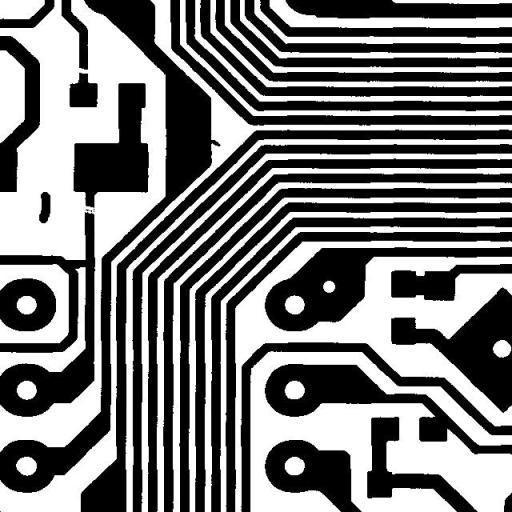copper: (31, 184, 58, 230)
open: (73, 198, 104, 222), (70, 60, 96, 81)
pin-hole: (316, 273, 342, 300)
short: (56, 252, 96, 276)
spur: (201, 132, 228, 154)
